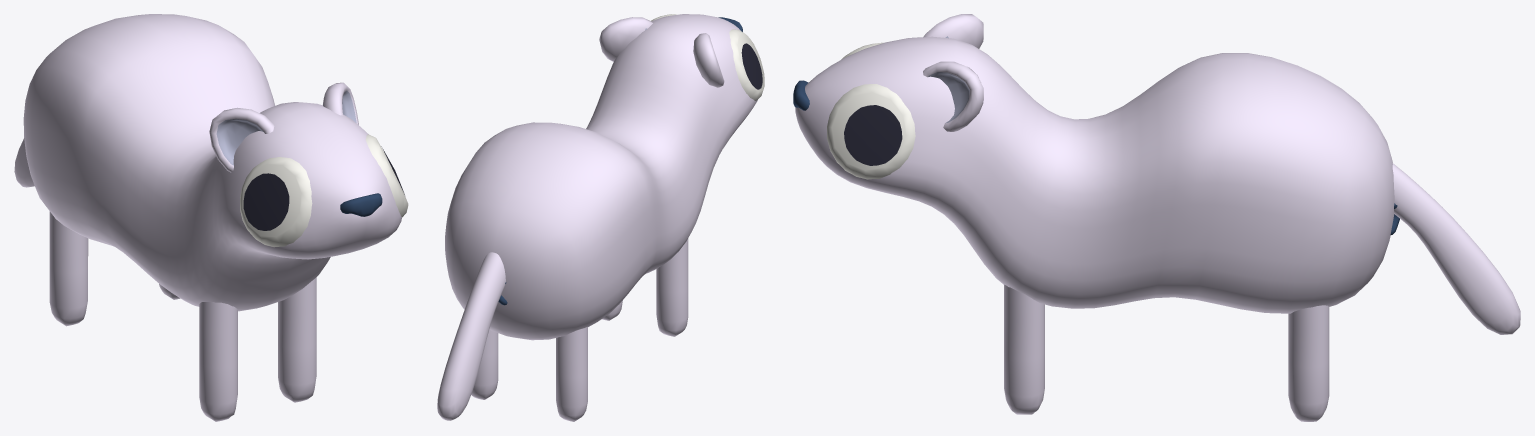
File: snowweasel.glb
The picture shows the model from 3 angles, left to right: view 1: azimuth 30°, elevation 25°; view 2: azimuth 150°, elevation 25°; view 3: azimuth 270°, elevation 25°; orthographic projection. The views are drawn at different scales.
Parts seen in each view (by area): view 1: SnowWeasel_LOD0; view 2: SnowWeasel_LOD0; view 3: SnowWeasel_LOD0.
Part boxes in pixels (x1,y1,x2,y2): SnowWeasel_LOD0: (14,14,408,421); SnowWeasel_LOD0: (437,14,764,421); SnowWeasel_LOD0: (793,14,1520,421).
Size of the model in its own units: 80.19 by 133 by 249.
Materials: 1 (1 with a texture image).
